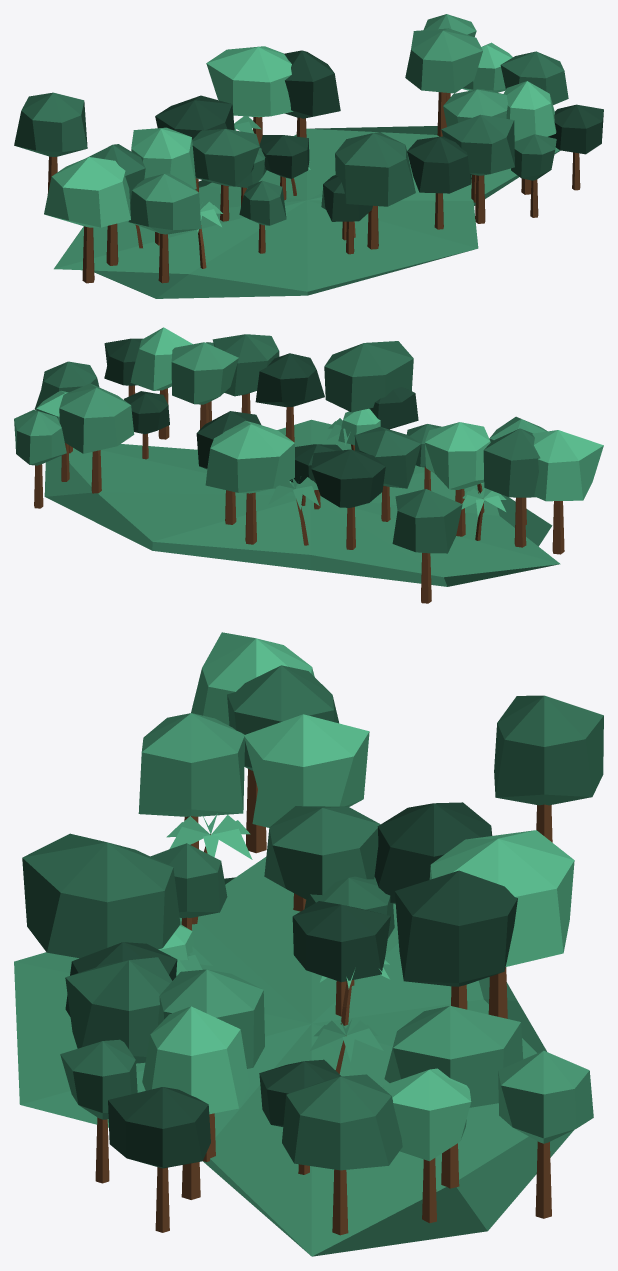
The model's file is W3_Mid_CanopyA.fbx.
3 views of the same model, one above another, from view 1: azimuth 30°, elevation 25°; view 2: azimuth 150°, elevation 25°; view 3: azimuth 270°, elevation 25° (orthographic). The views are drawn at different scales.
Visible parts, largest first — view 1: W3_Mid_CanopyA; view 2: W3_Mid_CanopyA; view 3: W3_Mid_CanopyA.
Boxes of the visible parts, x1,y1,x2,y2 form: W3_Mid_CanopyA: [14, 14, 603, 298]; W3_Mid_CanopyA: [14, 327, 603, 603]; W3_Mid_CanopyA: [14, 632, 603, 1256].
Size of the model in its own units: 124 by 28.26 by 69.31.
